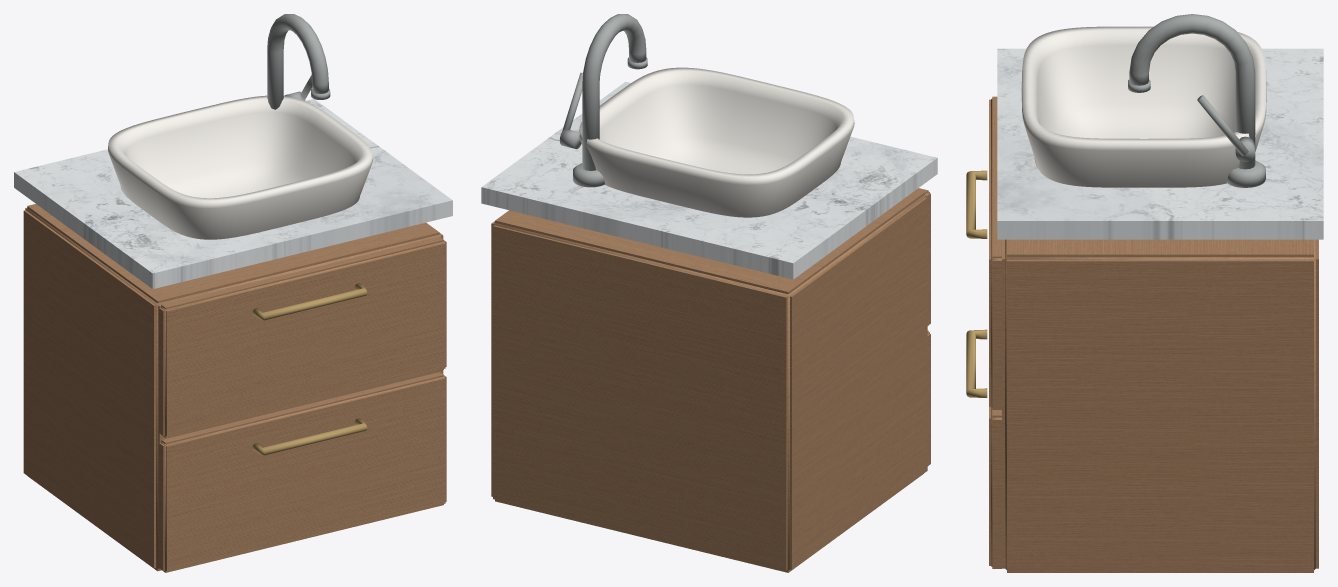
The model's file is contemporary.wall_vanity.gltf.
3 views of the same model, side by side, from view 1: azimuth 30°, elevation 25°; view 2: azimuth 150°, elevation 25°; view 3: azimuth 270°, elevation 25° (orthographic). The views are drawn at different scales.
Visible parts, largest first — view 1: contemporary.wall_vanity.wall-hung-cabinet; view 2: contemporary.wall_vanity.wall-hung-cabinet; view 3: contemporary.wall_vanity.wall-hung-cabinet.
Boxes of the visible parts, bbox=[...] form: contemporary.wall_vanity.wall-hung-cabinet: bbox=[14, 14, 452, 572]; contemporary.wall_vanity.wall-hung-cabinet: bbox=[481, 14, 937, 572]; contemporary.wall_vanity.wall-hung-cabinet: bbox=[966, 14, 1323, 572].
Size of the model in its own units: 0.5 by 0.7052 by 0.438.
Materials: 5 (2 with a texture image).
